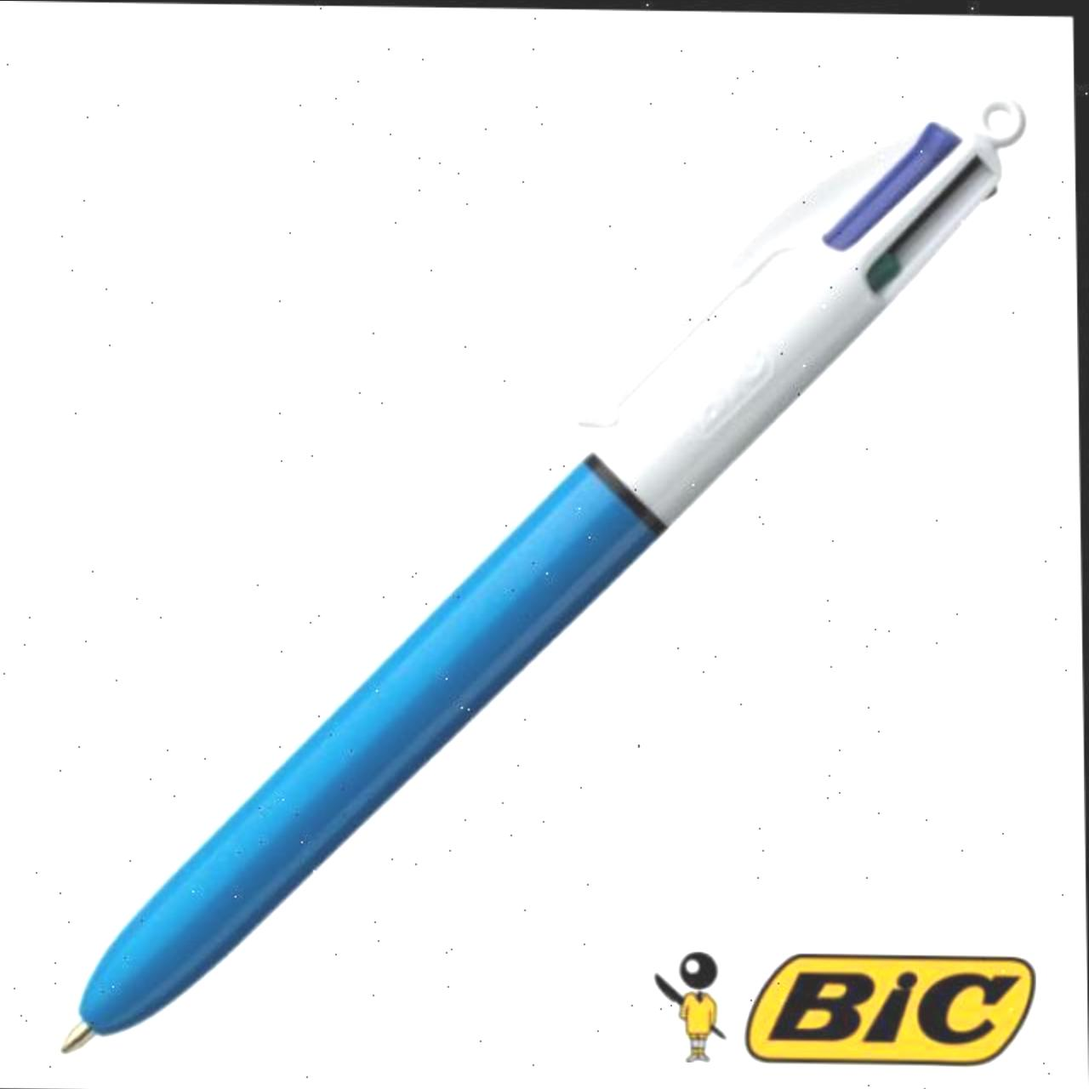pen: (46, 75, 1041, 1067)
